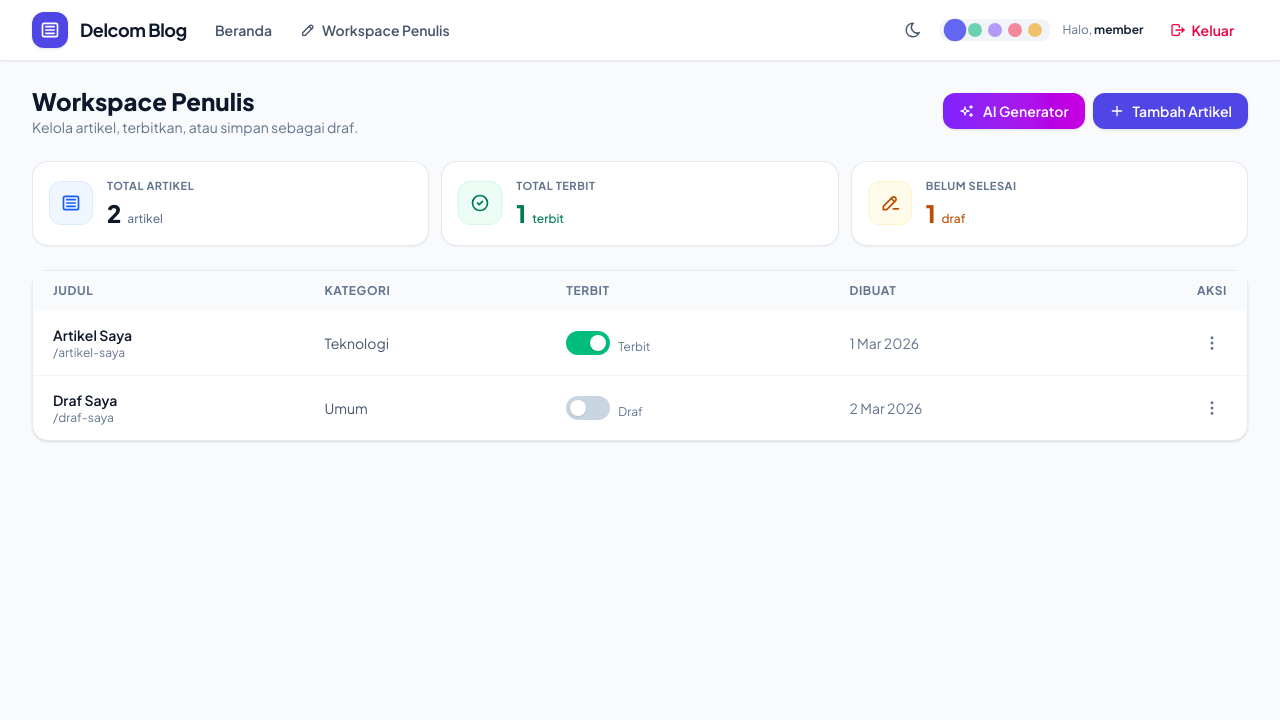
Test case: App Integration › edits an existing post from kebab menu
Expected: the element with test id "author-dashboard" is shown, [32,85,1248,440]
Click the button with test id "kebab-1": [1212, 342] box [1197,328,1227,358]
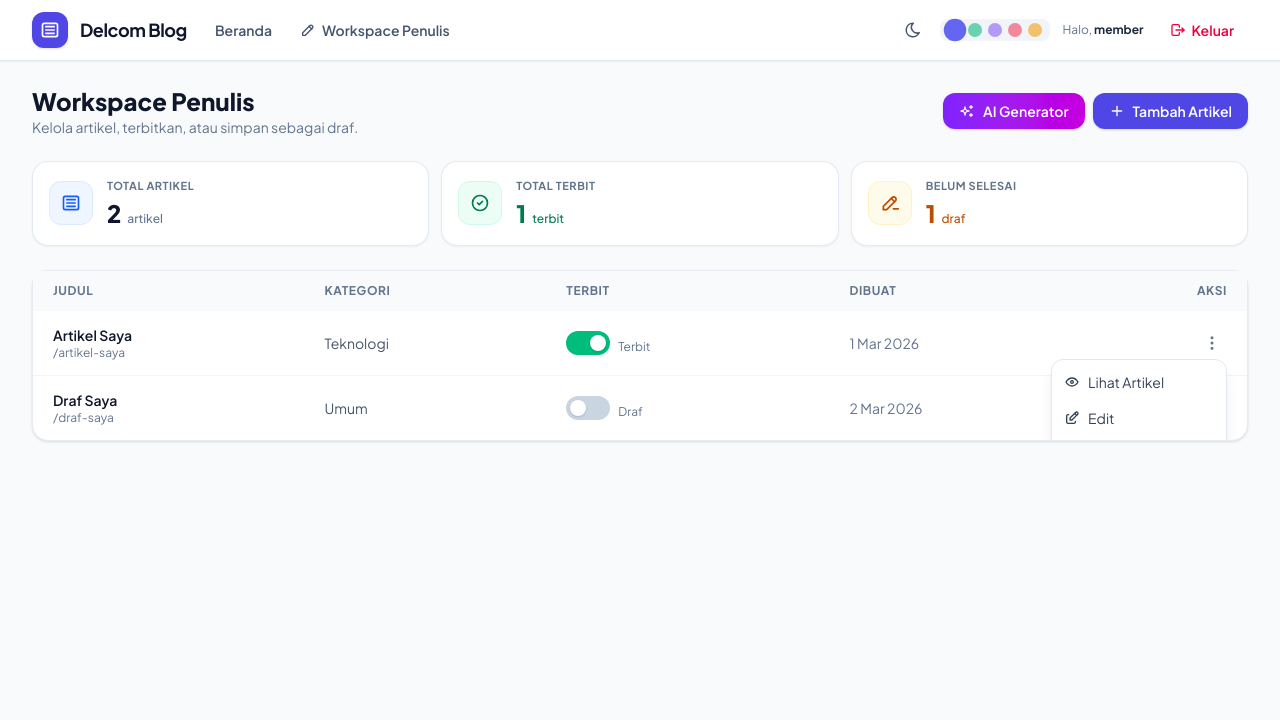
Click the button "Edit": [1139, 418] box [1052,400,1226,436]
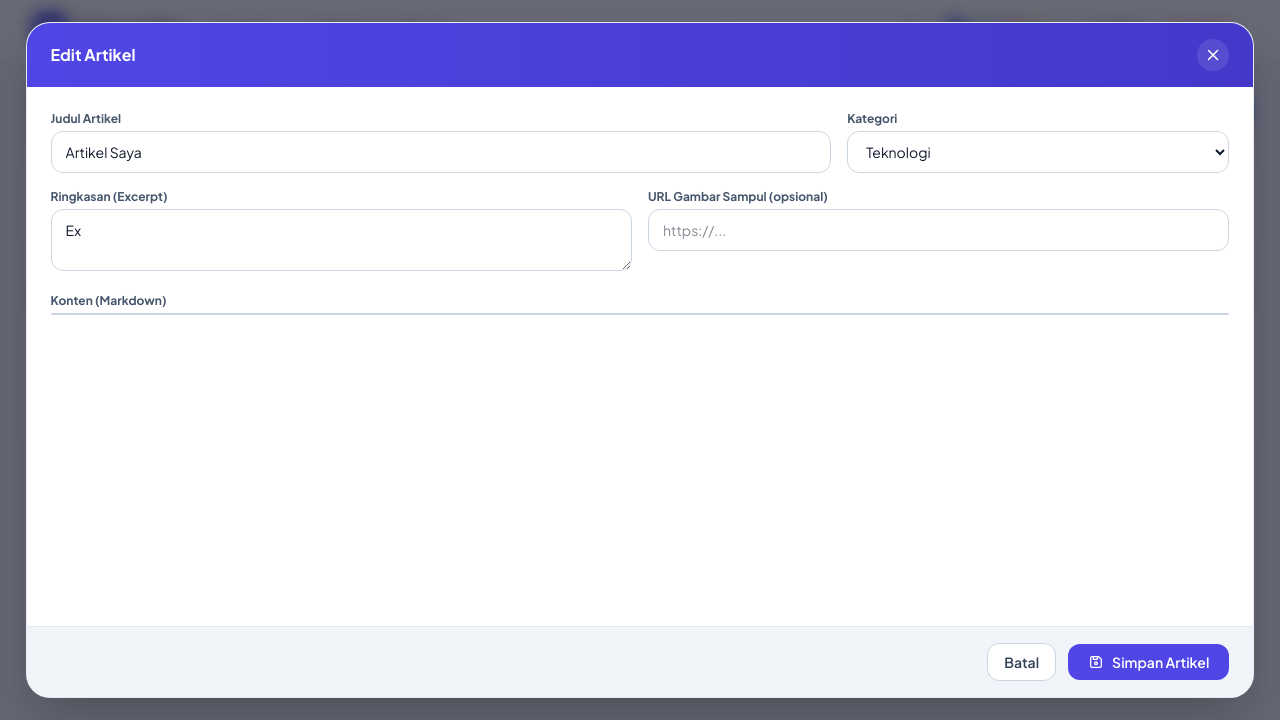
Expected: the heading "Edit Artikel" is shown, [51,43,136,67]
Replace the text in the field labelled "Judul Artikel" with "Judul Diubah": [441, 152] box [51,131,831,173]
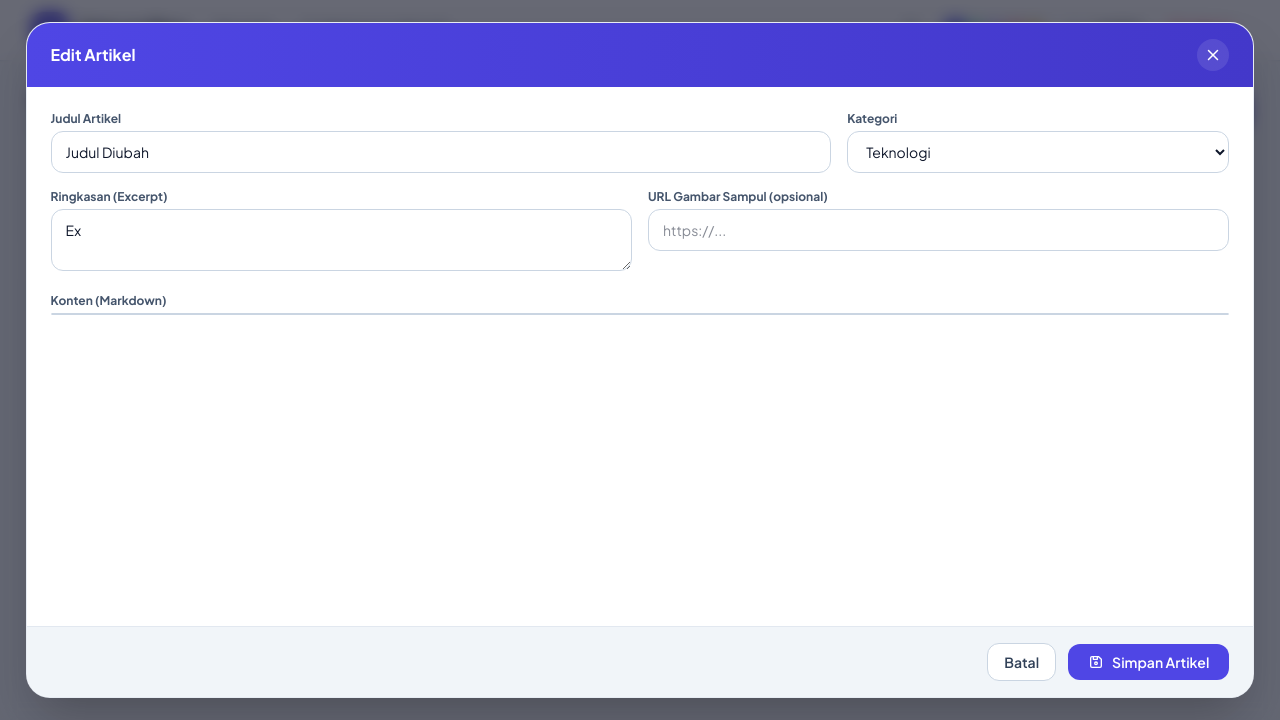
Click the button "Simpan Artikel": [1149, 662] box [1068,644,1229,680]
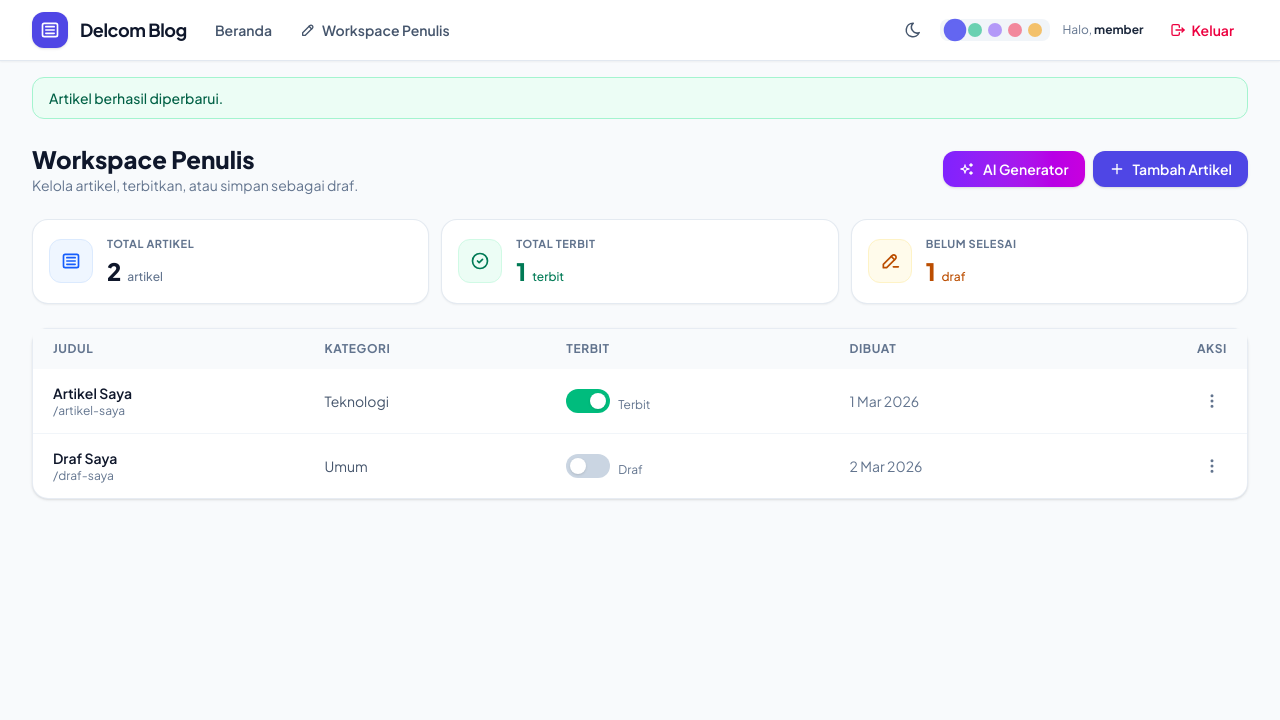
Expected: the text "Artikel berhasil diperbarui." is shown, [32,77,1248,119]
